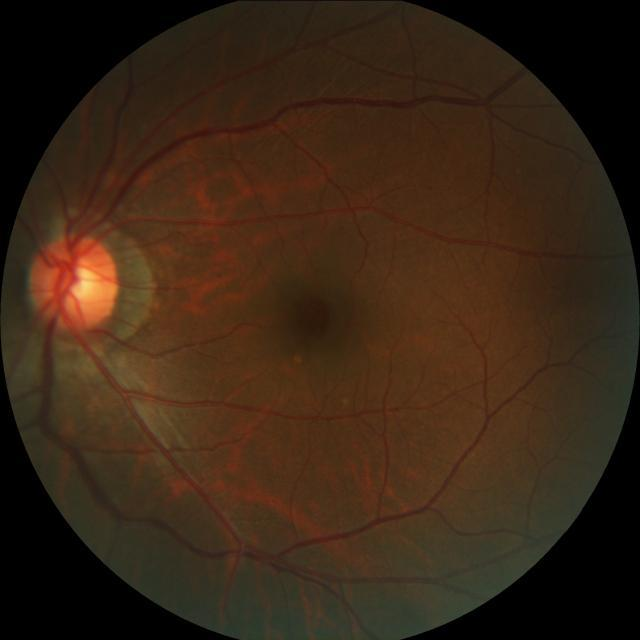OC: (61, 263, 96, 301)
OD: (25, 232, 116, 330)
